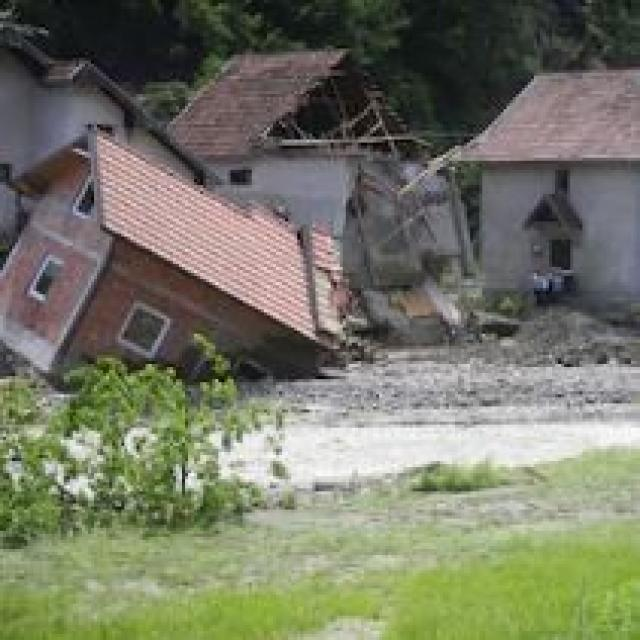collapsed_building: (0, 143, 343, 379), (170, 64, 437, 330)
